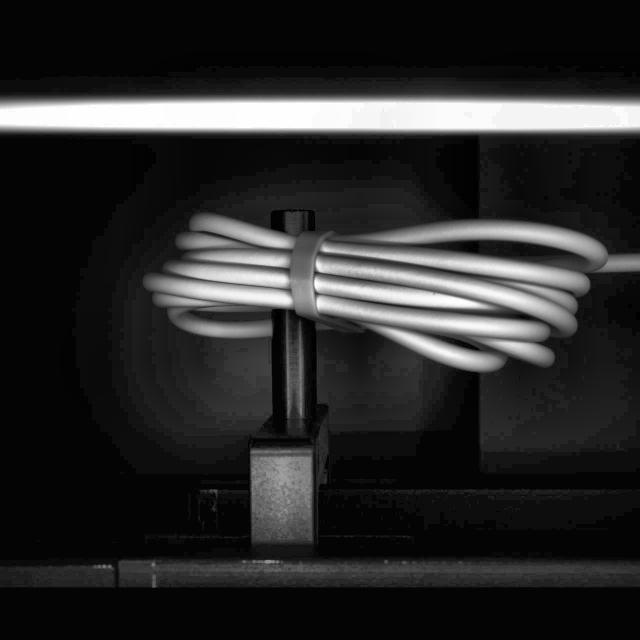Cable: (139, 207, 640, 376)
